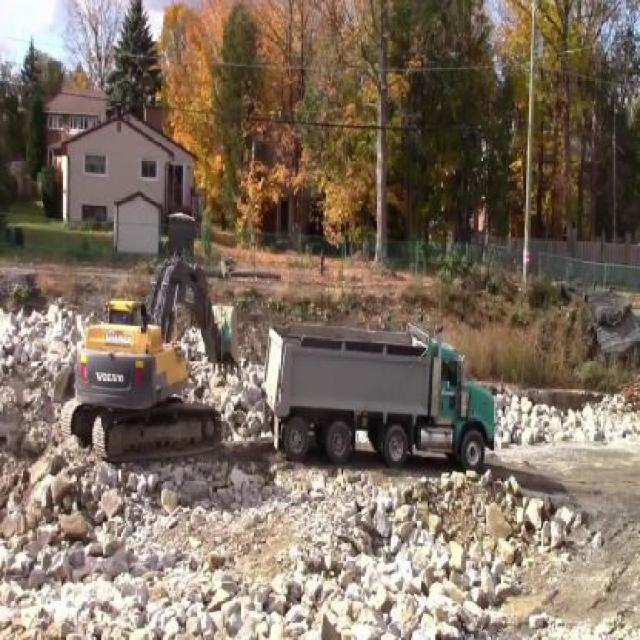Dump Truck: (259, 308, 498, 486)
Excavator: (60, 238, 245, 467)
